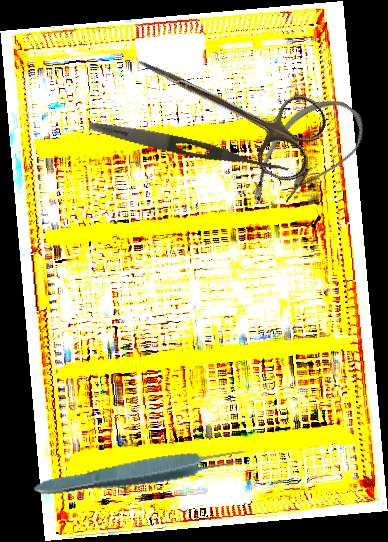Cannula: (239, 82, 375, 230)
Dressing Forceps: (87, 116, 291, 178)
Iris Scissors: (119, 26, 333, 188)
Tissue Forceps: (32, 442, 250, 504)
